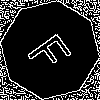F: (25, 25, 81, 77)
